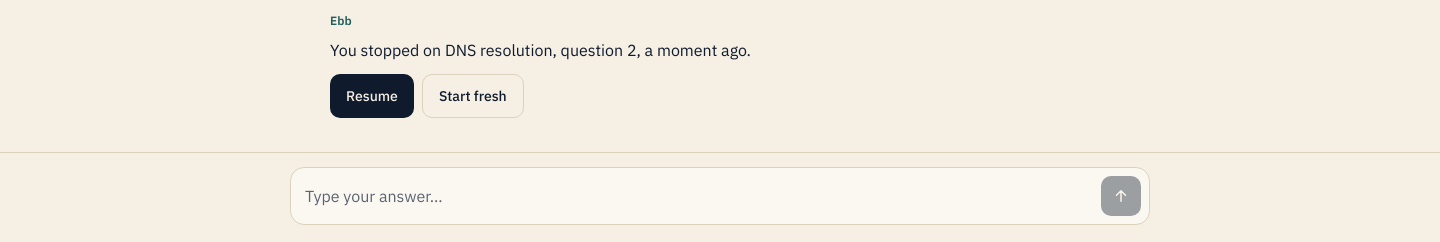
Test: Thread › offers to resume another tab's session, and resumes it
What coordinates should you click on to do the following:
click the button "Resume"
I would click on:
 (372, 96)
Its box is [330,74,414,118].
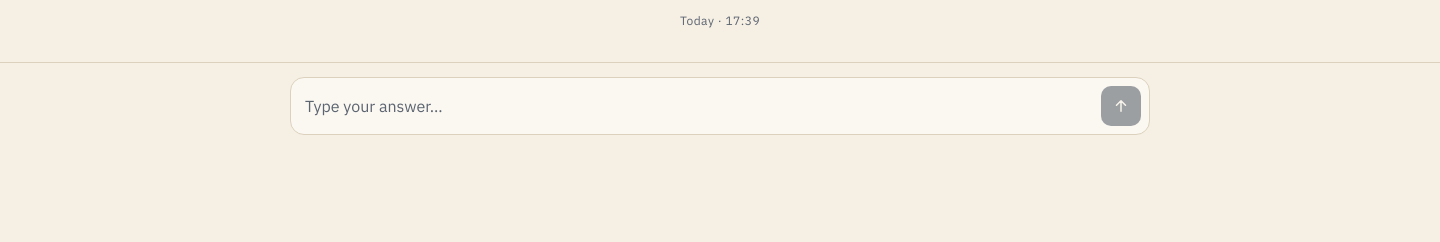
Now the button "Resume" is gone
